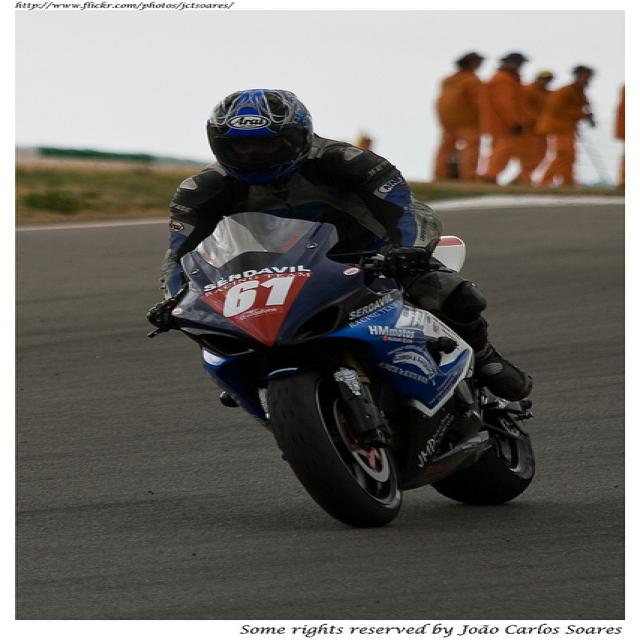motor: (166, 210, 548, 535)
